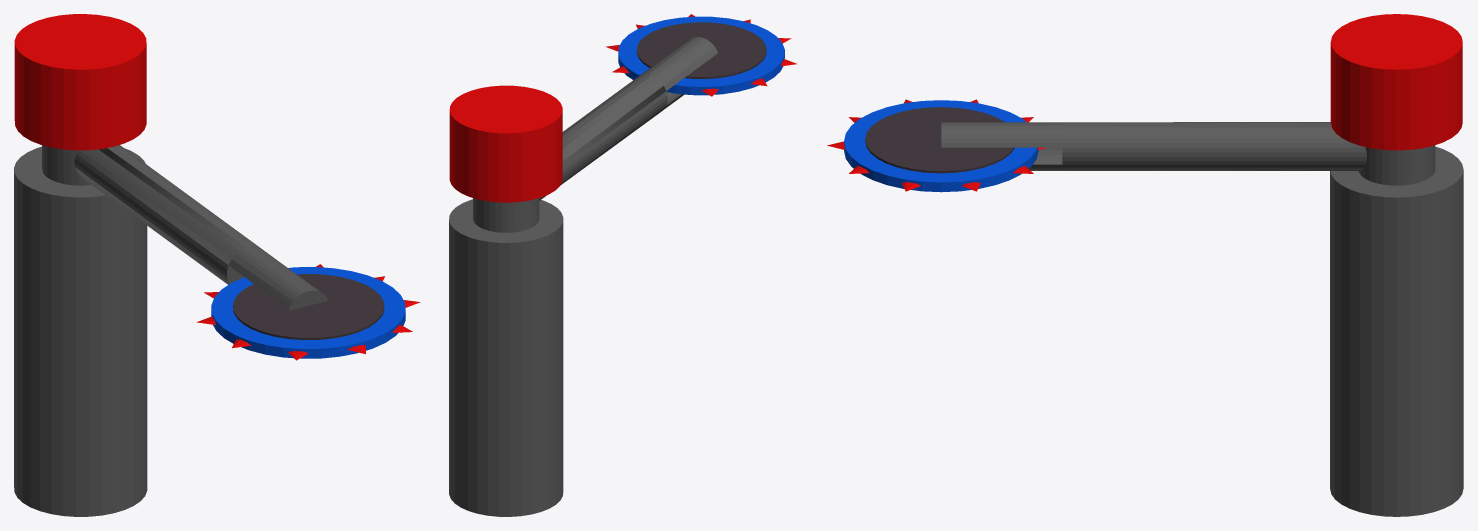
Rendered from headCutterTrap.fbx.
3 views of the same model, side by side, from view 1: azimuth 30°, elevation 25°; view 2: azimuth 150°, elevation 25°; view 3: azimuth 270°, elevation 25° (orthographic). The views are drawn at different scales.
Parts seen in each view (by area): view 1: Cylinder.006, Cylinder.002, Cylinder.001, Cylinder, Icosphere.002; view 2: Cylinder.006, Cylinder.002, Cylinder.001, Cylinder, Icosphere.002; view 3: Cylinder.006, Cylinder.002, Cylinder.001, Cylinder, Icosphere.002.
Part boxes in pixels (box(x1,y1,x2,y2)): Cylinder.006: box(14, 145, 327, 516); Cylinder.002: box(14, 14, 146, 150); Cylinder.001: box(233, 274, 384, 339); Cylinder: box(211, 267, 405, 358); Icosphere.002: box(197, 264, 420, 360); Cylinder.006: box(449, 37, 718, 516); Cylinder.002: box(449, 85, 562, 202); Cylinder.001: box(636, 22, 766, 78); Cylinder: box(618, 16, 784, 95); Icosphere.002: box(605, 14, 796, 96); Cylinder.006: box(941, 122, 1463, 516); Cylinder.002: box(1330, 14, 1462, 150); Cylinder.001: box(865, 107, 1014, 173); Cylinder: box(844, 100, 1038, 192); Icosphere.002: box(827, 99, 1046, 191).
Size of the model in its own units: 190 by 429 by 555.
